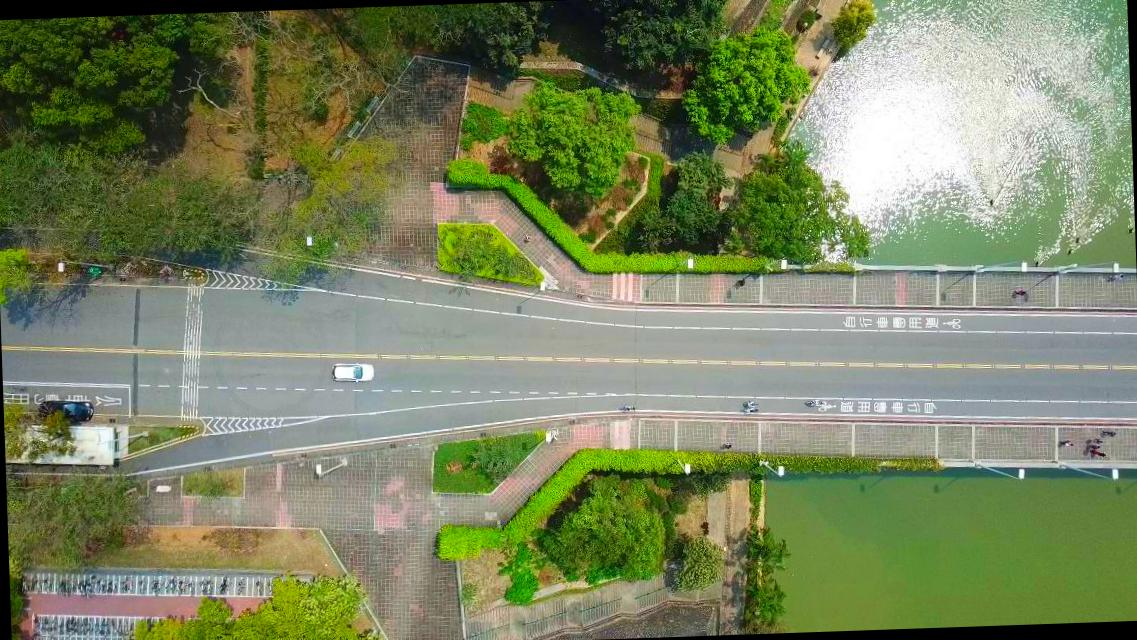vehicle: (36, 398, 94, 423), (330, 361, 374, 383)
